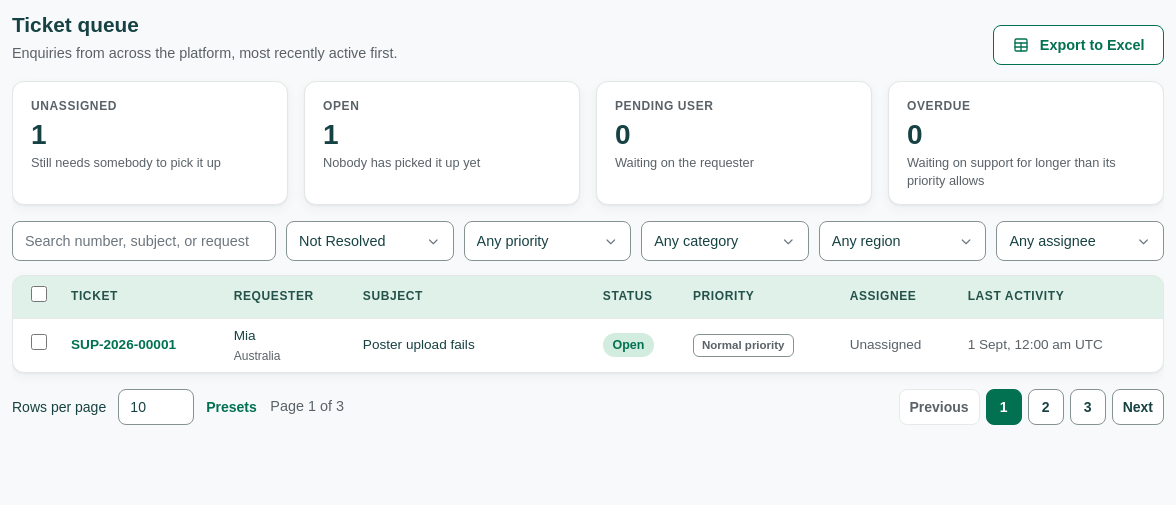
Test: an empty page › says nothing matches when a page reached by its number is empty
Click the button "3".
click(1088, 407)  # box [1070, 389, 1106, 425]
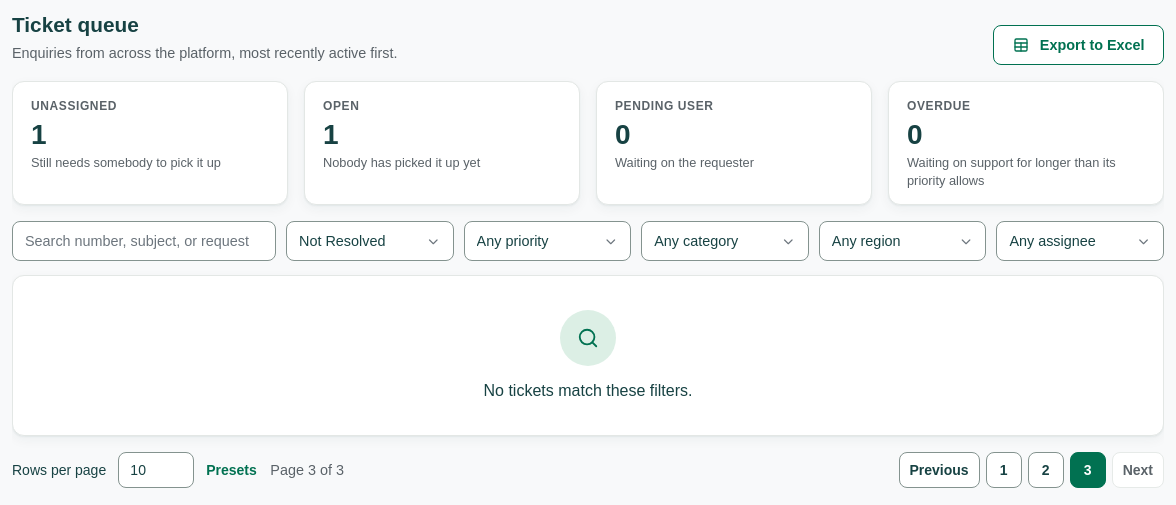
Check: the text "No tickets match these filters." is shown, box [484, 378, 692, 403]
